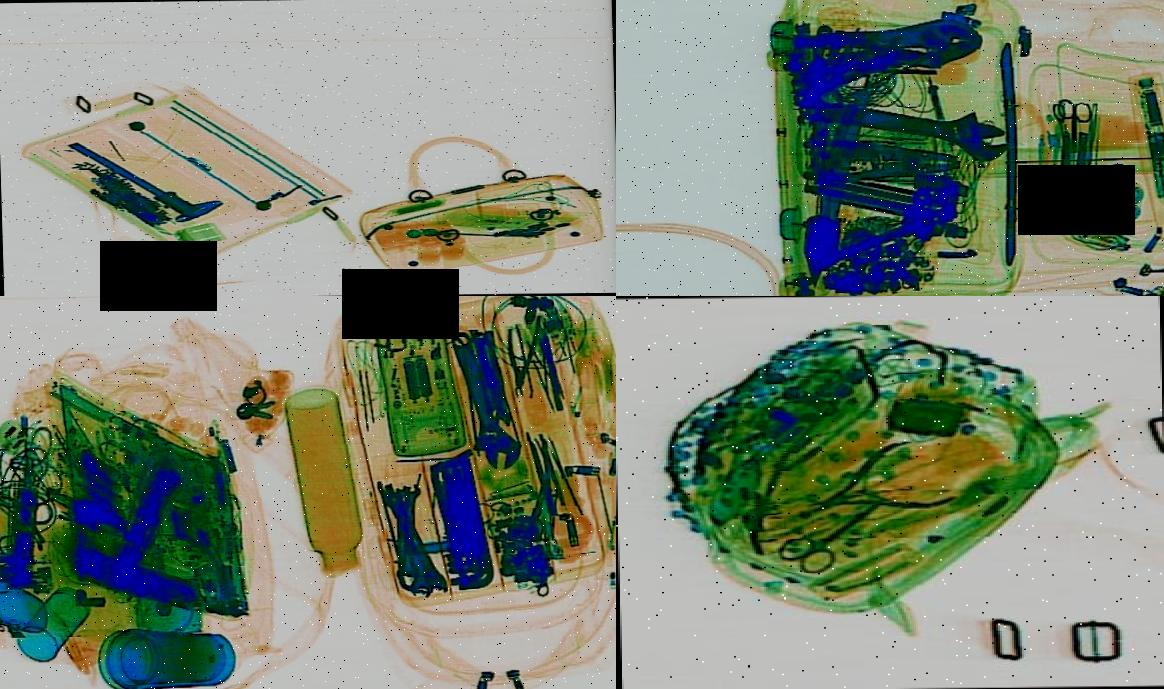Pliers: (787, 435, 961, 537), (782, 8, 990, 79), (802, 135, 964, 184)
Scissors: (769, 489, 905, 578)
Wrench: (785, 80, 1029, 166), (436, 328, 530, 472)
